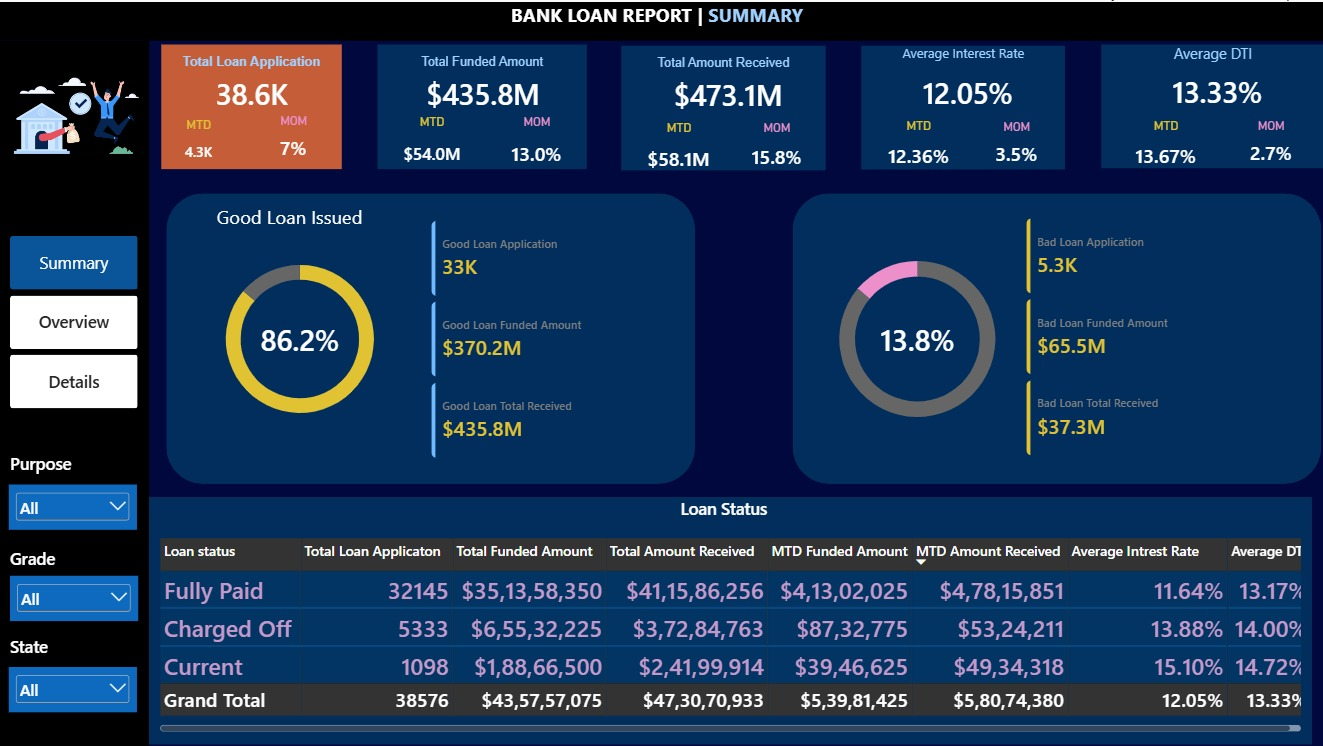

Layout of this report page (visuals, bound fields, positions):
{"tool":"powerbi","page":{"name":"Summary","canvas":[1920,1080],"ordinal":0},"visuals":[{"type":"shape","box":[0,0,1920,56],"z":0},{"type":"shape","box":[0,56.8,216.2,1022.3],"z":1000},{"type":"shape","box":[240.6,277.6,765.7,421],"z":2000},{"type":"shape","box":[1593.7,61.3,322.6,179.2],"z":3000,"group":"g5"},{"type":"shape","box":[233.7,61.4,261.4,180.4],"z":3000,"group":"g1"},{"type":"shape","box":[1246.7,62,294.9,179.2],"z":3000,"group":"g4"},{"type":"shape","box":[545.9,62.1,303,180.4],"z":3000,"group":"g2"},{"type":"shape","box":[899.8,62.9,296.1,180.4],"z":3000,"group":"g3"},{"type":"shape","box":[1147.4,277.6,765.7,421],"z":3000},{"type":"textbox","box":[586,0,730,56],"z":4000},{"type":"cardVisual","fields":{"Data":["financial_loan.Total Loan Applicaton"]},"box":[254.2,101.5,222.8,60.1],"z":4000,"group":"g1"},{"type":"cardVisual","fields":{"Data":["financial_loan.Total Funded Amount"]},"box":[569.6,102.2,258.2,60.1],"z":4000,"group":"g2"},{"type":"cardVisual","fields":{"Data":["financial_loan.Average Debt to incom"]},"box":[1625,105.7,274.5,48.7],"z":4000,"group":"g5"},{"type":"cardVisual","fields":{"Data":["financial_loan.Average Intrest Rate"]},"box":[1275.3,106.4,251,48.7],"z":4000,"group":"g4"},{"type":"cardVisual","fields":{"Data":["financial_loan.Total Amount Received"]},"box":[928.6,107.6,252,49],"z":4000,"group":"g3"},{"type":"textbox","box":[1594,60,323.5,41.7],"z":5000,"group":"g5"},{"type":"textbox","box":[1247,60.7,295.8,41.7],"z":5000,"group":"g4"},{"type":"group","id":"g1","title":"Group 1","box":[233.7,61.4,261.4,180.4],"z":5000},{"type":"textbox","box":[233.7,75.4,261.4,26.1],"z":5000,"group":"g1"},{"type":"textbox","box":[545.9,76.1,303,26.1],"z":5000,"group":"g2"},{"type":"textbox","box":[899.8,76.9,296.1,26.1],"z":5000,"group":"g3"},{"type":"group","id":"g2","title":"Group 1","box":[545.9,62.1,303,180.4],"z":6000},{"type":"cardVisual","title":"MTD","fields":{"Data":["financial_loan.MTD Funded Amount"]},"box":[549.5,163.9,150.4,76],"z":6000,"group":"g2"},{"type":"cardVisual","title":"MTD","fields":{"Data":["financial_loan.MTD Loan Applications"]},"box":[236,165.7,104.6,62.1],"z":6000,"group":"g1"},{"type":"cardVisual","title":"MTD","fields":{"Data":["financial_loan.MTD Average Debt To Income"]},"box":[1603,167.8,169.5,68.8],"z":6000,"group":"g5"},{"type":"cardVisual","title":"MTD","fields":{"Data":["financial_loan.MTD Intrest Rate"]},"box":[1251.1,168.3,159.2,68.8],"z":6000,"group":"g4"},{"type":"cardVisual","title":"MTD","fields":{"Data":["financial_loan.MTD Amount Received"]},"box":[904.2,170.8,159.8,71.8],"z":6000,"group":"g3"},{"type":"cardVisual","title":"MOM","fields":{"Data":["financial_loan.MOM Loan Applications"]},"box":[372.4,161.6,104.6,62.1],"z":7000,"group":"g1"},{"type":"cardVisual","title":"MOM","fields":{"Data":["financial_loan.MOM Funded Amount"]},"box":[705.4,163.1,142.7,76],"z":7000,"group":"g2"},{"type":"cardVisual","title":"MOM","fields":{"Data":["financial_loan.MOM Average Debt to income"]},"box":[1763.7,168.7,151.5,62.3],"z":7000,"group":"g5"},{"type":"cardVisual","title":"MOM","fields":{"Data":["financial_loan.MOM Intrest Rate"]},"box":[1402.1,169.4,138.5,62.3],"z":7000,"group":"g4"},{"type":"cardVisual","title":"MOM","fields":{"Data":["financial_loan.MOM Amount Received"]},"box":[1055.5,170.8,139.5,67.7],"z":7000,"group":"g3"},{"type":"cardVisual","fields":{"Data":["financial_loan.Good Loan %"]},"box":[351.6,462.7,166.6,48.6],"z":7000},{"type":"group","id":"g3","title":"Group 1","box":[899.8,62.9,296.1,180.4],"z":8000},{"type":"group","id":"g4","title":"Group 1","box":[1246.7,60.7,296.1,180.4],"z":9000},{"type":"group","id":"g5","title":"Group 1","box":[1593.7,60,326.2,180.4],"z":10000},{"type":"donutChart","fields":{"Category":["financial_loan.Good Vs Bad Loan"],"Y":["financial_loan.Total Loan Applicaton"]},"box":[284,338.6,300,300],"z":11000},{"type":"textbox","box":[253.4,292.7,332,45.9],"z":12000},{"type":"donutChart","fields":{"Category":["financial_loan.Good Vs Bad Loan"],"Y":["financial_loan.Bad Loan %"]},"box":[1170.8,325.5,314.5,325.5],"z":13000},{"type":"cardVisual","fields":{"Data":["financial_loan.Bad Loan %"]},"box":[1245.1,454.3,166.6,67.1],"z":14000},{"type":"cardVisual","fields":{"Data":["financial_loan.Good Loan Application","financial_loan.Good Loan Funded Amount","financial_loan.Good Loan Total Received"]},"box":[624.7,316.7,404.1,345.1],"z":15000},{"type":"cardVisual","fields":{"Data":["financial_loan.Bad Loan Application","financial_loan.Bad Loan Funded Amount","financial_loan.Bad Loan Total Received"]},"box":[1485.3,312.4,404.1,345.1],"z":16000},{"type":"shape","box":[216.2,716.5,1684.1,358.2],"z":17000},{"type":"tableEx","fields":{"Values":["financial_loan.loan_status","financial_loan.Total Loan Applicaton","financial_loan.Total Funded Amount","financial_loan.Total Amount Received","financial_loan.MTD Funded Amount","financial_loan.MTD Amount Received","financial_loan.Average Intrest Rate","financial_loan.Average Debt to incom"]},"box":[216.2,762,1684.1,310.2],"z":18000},{"type":"textbox","box":[235.9,716.5,1625.1,45.9],"z":19000},{"type":"slicer","fields":{"Values":["financial_loan.address_state"]},"box":[13.1,963.3,185.7,65.5],"z":20000},{"type":"textbox","box":[15.3,917.4,131.1,45.9],"z":21000},{"type":"slicer","fields":{"Values":["financial_loan.grade"]},"box":[15.3,830,185.7,65.5],"z":22000},{"type":"slicer","fields":{"Values":["financial_loan.purpose"]},"box":[13.1,699,185.7,65.5],"z":23000},{"type":"textbox","box":[15.3,788.5,185.7,41.5],"z":24000},{"type":"textbox","box":[15.3,650.9,185.7,48.1],"z":25000},{"type":"image","box":[0,54.6,216.2,218.4],"z":25001},{"type":"pageNavigator","box":[15.3,338.6,185.7,251.2],"z":25002}]}

Visuals, with their boxes in screenshot pixels (x1, y1, x2, y2), scaled from the page's 1920x1080 canvas onto the 1323x746 screenshot:
shape: bbox=[0, 0, 1322, 39]
shape: bbox=[0, 39, 149, 745]
shape: bbox=[166, 192, 693, 483]
shape: bbox=[1098, 42, 1320, 166]
shape: bbox=[161, 42, 341, 167]
shape: bbox=[859, 43, 1062, 167]
shape: bbox=[376, 43, 585, 168]
shape: bbox=[620, 43, 824, 168]
shape: bbox=[791, 192, 1318, 483]
textbox: bbox=[404, 0, 907, 39]
cardVisual - financial_loan.Total Loan Applicaton: bbox=[175, 70, 329, 112]
cardVisual - financial_loan.Total Funded Amount: bbox=[392, 71, 570, 112]
cardVisual - financial_loan.Average Debt to incom: bbox=[1120, 73, 1309, 107]
cardVisual - financial_loan.Average Intrest Rate: bbox=[879, 73, 1052, 107]
cardVisual - financial_loan.Total Amount Received: bbox=[640, 74, 814, 108]
textbox: bbox=[1098, 41, 1321, 70]
textbox: bbox=[859, 42, 1063, 71]
"Group 1" group: bbox=[161, 42, 341, 167]
textbox: bbox=[161, 52, 341, 70]
textbox: bbox=[376, 53, 585, 71]
textbox: bbox=[620, 53, 824, 71]
"Group 1" group: bbox=[376, 43, 585, 168]
"MTD" cardVisual: bbox=[379, 113, 482, 166]
"MTD" cardVisual: bbox=[163, 114, 235, 157]
"MTD" cardVisual: bbox=[1105, 116, 1221, 163]
"MTD" cardVisual: bbox=[862, 116, 972, 164]
"MTD" cardVisual: bbox=[623, 118, 733, 168]
"MOM" cardVisual: bbox=[257, 112, 329, 155]
"MOM" cardVisual: bbox=[486, 113, 584, 165]
"MOM" cardVisual: bbox=[1215, 117, 1320, 160]
"MOM" cardVisual: bbox=[966, 117, 1062, 160]
"MOM" cardVisual: bbox=[727, 118, 823, 165]
cardVisual - financial_loan.Good Loan %: bbox=[242, 320, 357, 353]
"Group 1" group: bbox=[620, 43, 824, 168]
"Group 1" group: bbox=[859, 42, 1063, 167]
"Group 1" group: bbox=[1098, 41, 1322, 166]
donutChart - financial_loan.Good Vs Bad Loan x financial_loan.Total Loan Applicaton: bbox=[196, 234, 402, 441]
textbox: bbox=[175, 202, 403, 234]
donutChart - financial_loan.Good Vs Bad Loan x financial_loan.Bad Loan %: bbox=[807, 225, 1023, 450]
cardVisual - financial_loan.Bad Loan %: bbox=[858, 314, 973, 360]
cardVisual - financial_loan.Good Loan Application x financial_loan.Good Loan Funded Amount: bbox=[430, 219, 709, 457]
cardVisual - financial_loan.Bad Loan Application x financial_loan.Bad Loan Funded Amount: bbox=[1023, 216, 1302, 454]
shape: bbox=[149, 495, 1309, 742]
tableEx - financial_loan.loan_status x financial_loan.Total Loan Applicaton: bbox=[149, 526, 1309, 741]
textbox: bbox=[163, 495, 1282, 527]
slicer - financial_loan.address_state: bbox=[9, 665, 137, 711]
textbox: bbox=[11, 634, 101, 665]
slicer - financial_loan.grade: bbox=[11, 573, 139, 619]
slicer - financial_loan.purpose: bbox=[9, 483, 137, 528]
textbox: bbox=[11, 545, 139, 573]
textbox: bbox=[11, 450, 139, 483]
image: bbox=[0, 38, 149, 189]
pageNavigator: bbox=[11, 234, 139, 407]
